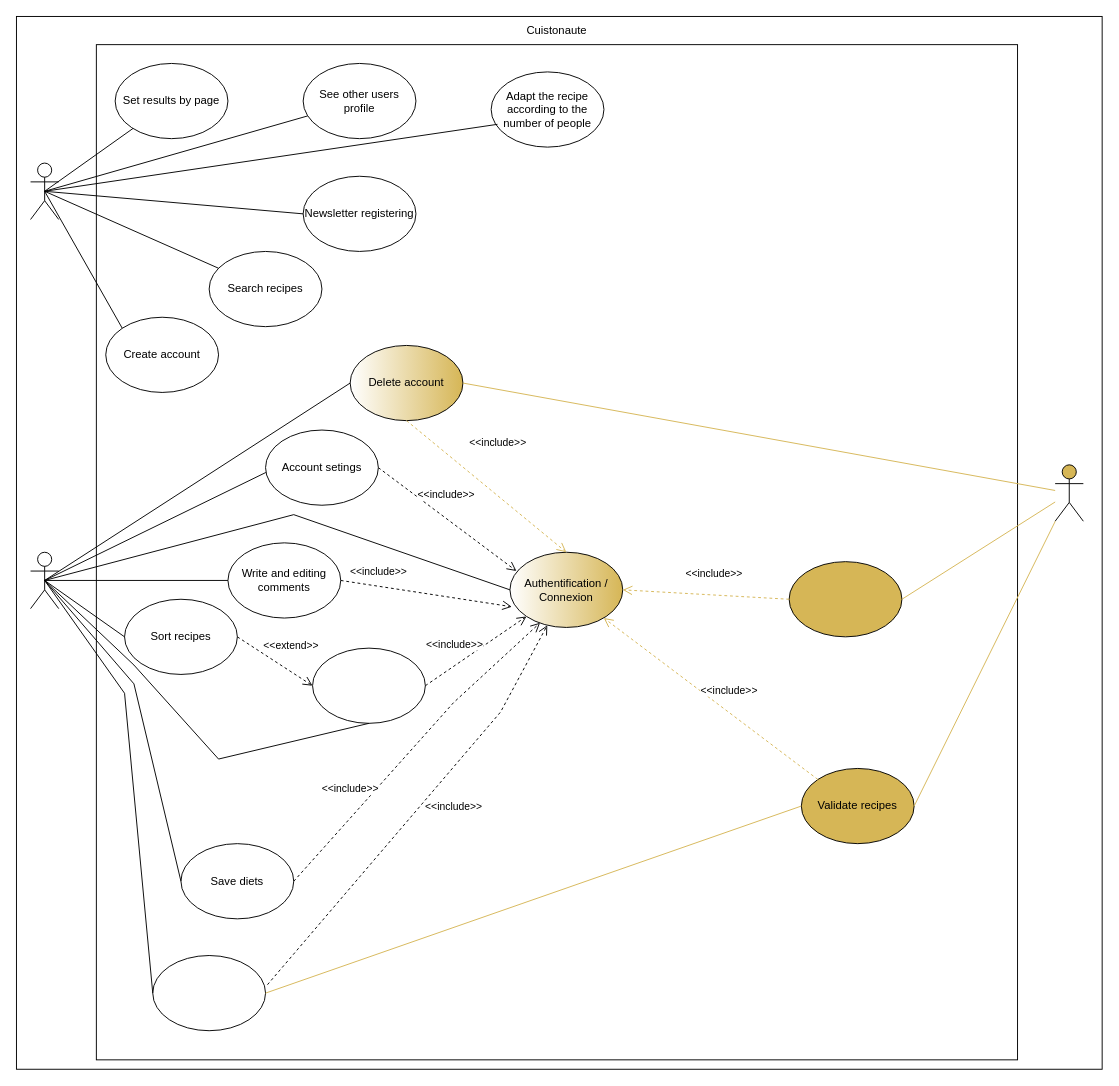
This 1119x1086 diagram has some shape labels left out. The shapes that lost their labels are listed below. From the top down, each one's centre as x and y in pixels, then its label:
At pixel 44 190: "User".
At pixel 1068 492: "Admin".
At pixel 44 580: "Customer".
At pixel 845 599: "Manage comments".
At pixel 368 685: "Save recipe".
At pixel 209 993: "Create and setting new recipes".
